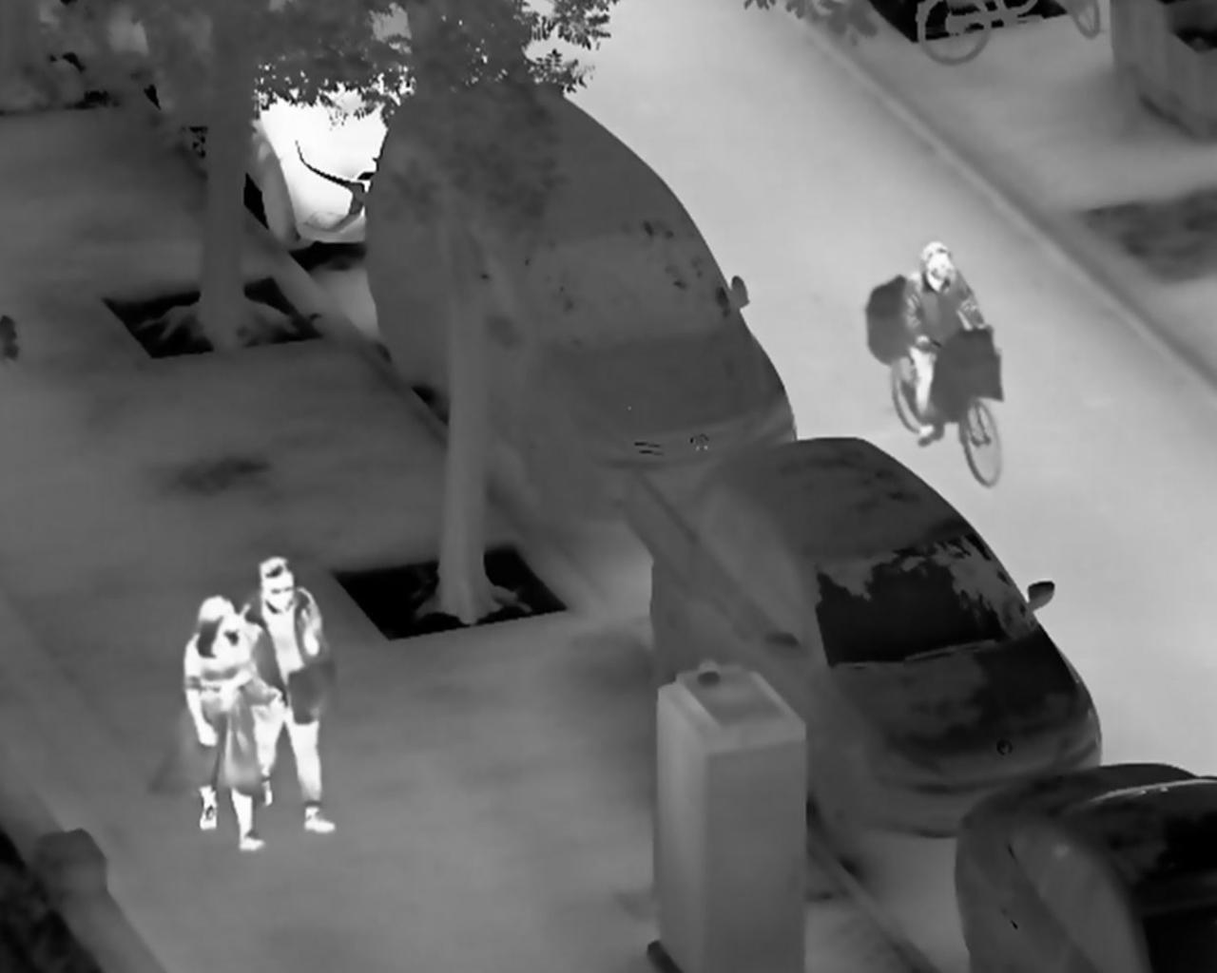person: (238, 555, 342, 838), (179, 594, 280, 851), (898, 238, 995, 448)
